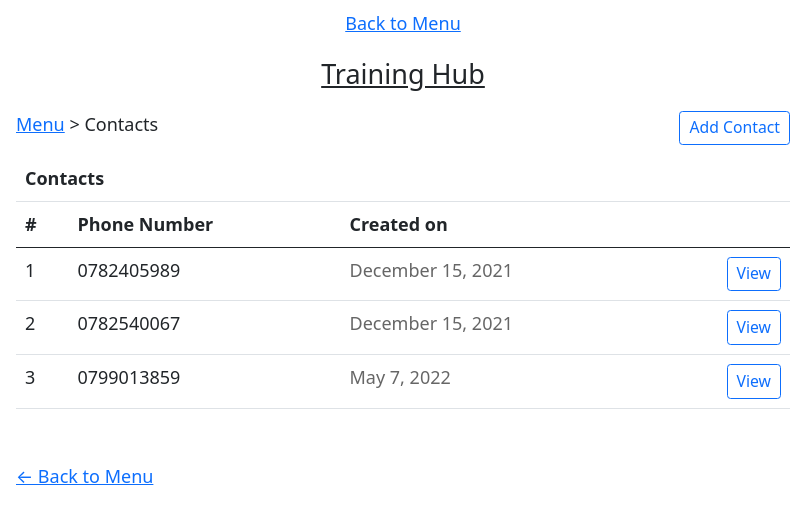
Test case: contacts view › can move to add contact page
Click the button "Add Contact". click: (736, 129)
box: [680,111,791,146]
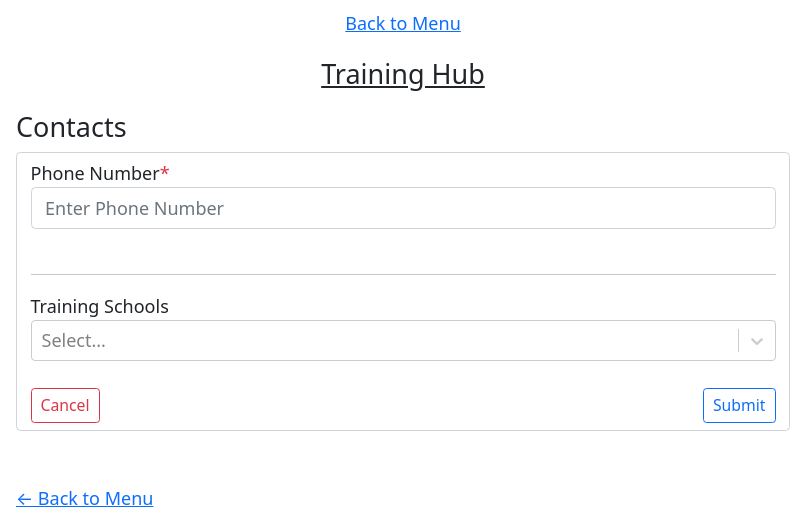
Check: the text "Phone Number" is shown, box [31,160,170,187]
Check: the button "Submit" is shown, box [703,388,776,423]
